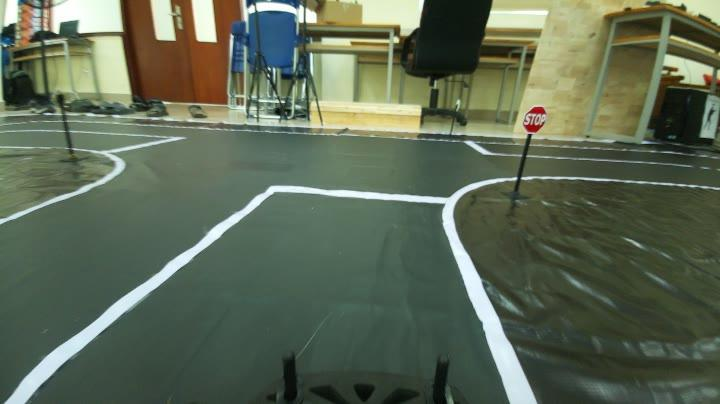stop: (516, 106, 556, 136)
